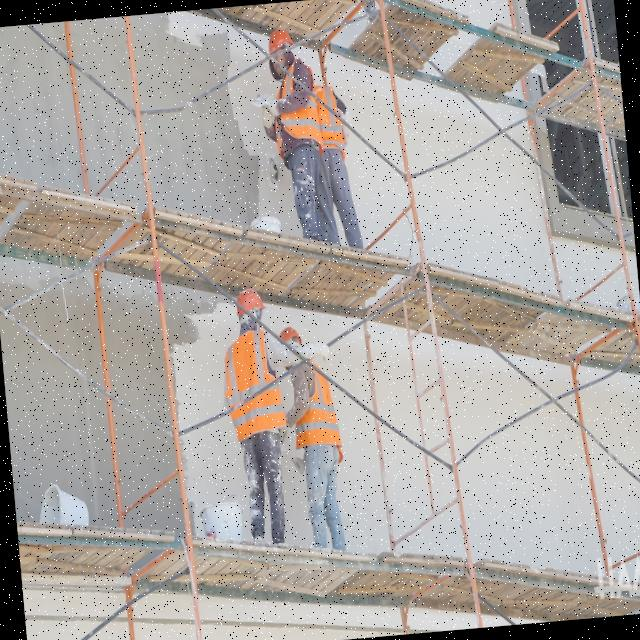Helmet: (235, 290, 268, 317), (267, 28, 294, 52), (280, 327, 301, 344)
Jacket: (223, 332, 283, 434), (274, 70, 321, 154), (295, 360, 336, 452), (313, 86, 345, 152)
